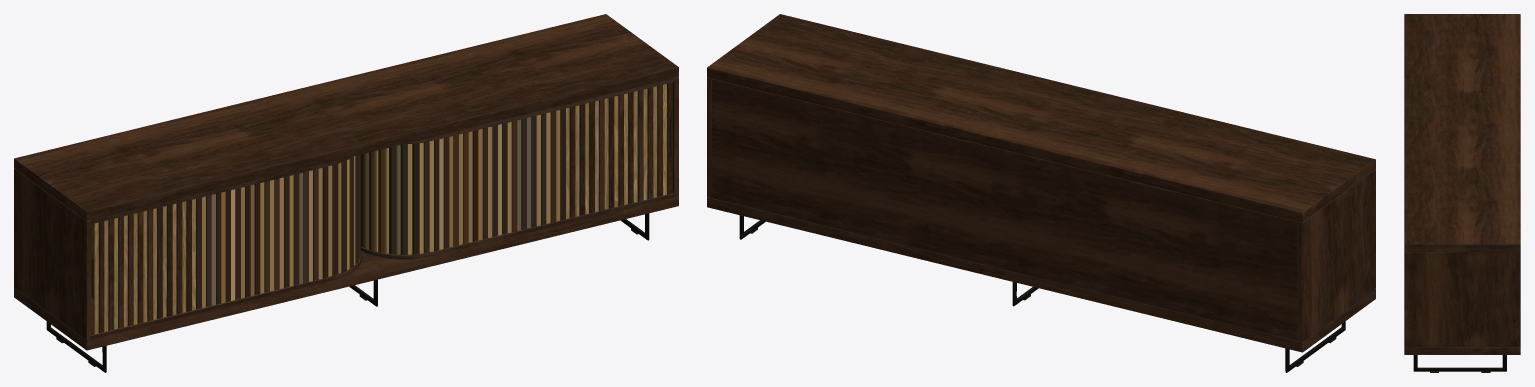
Rendered from modern_wooden_cabinet.glb.
The picture shows the model from 3 angles, left to right: view 1: azimuth 30°, elevation 25°; view 2: azimuth 150°, elevation 25°; view 3: azimuth 270°, elevation 25°; orthographic projection. The views are drawn at different scales.
Visible parts, largest first — view 1: body, slats, legs; view 2: body, legs; view 3: body, legs.
Boxes of the visible parts, x1,y1,x2,y2 form: body: (14, 14, 678, 350); slats: (91, 82, 672, 334); legs: (46, 213, 649, 372); body: (707, 14, 1375, 352); legs: (739, 215, 1345, 372); body: (1404, 14, 1520, 354); legs: (1413, 355, 1506, 372).
Size of the model in its own units: 2.44 by 0.6801 by 0.5201.
Materials: 3 (3 with a texture image).
